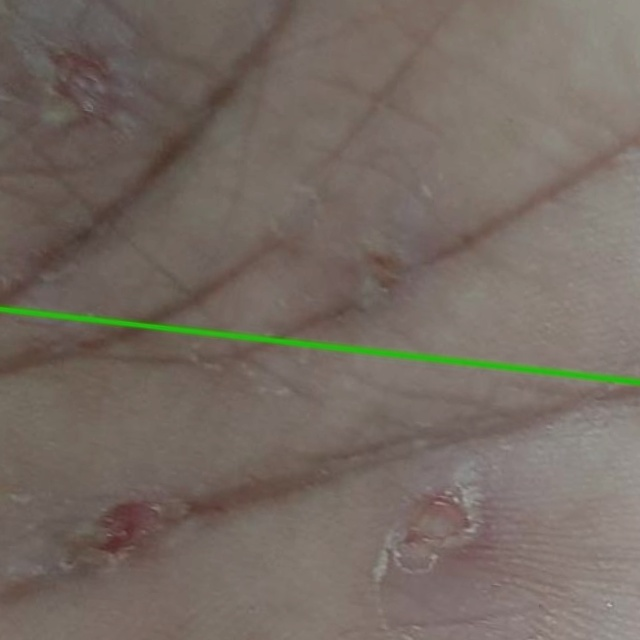Scabies: (0, 310, 639, 639)
